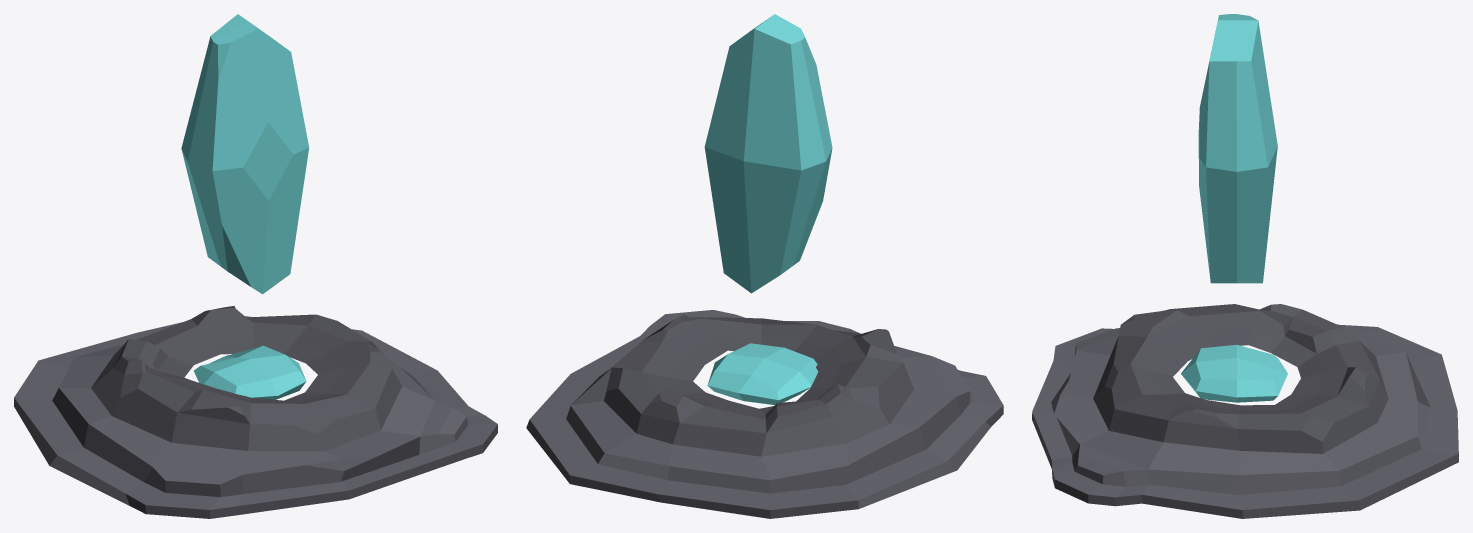
The model's file is piedraybase.fbx.
3 views of the same model, side by side, from view 1: azimuth 30°, elevation 25°; view 2: azimuth 150°, elevation 25°; view 3: azimuth 270°, elevation 25° (orthographic).
Visible parts, largest first — view 1: pisomagico.001, cristaldeluz.001, piedrapiso; view 2: pisomagico.001, cristaldeluz.001, piedrapiso; view 3: pisomagico.001, cristaldeluz.001, piedrapiso.
Part boxes in pixels (x1,y1,x2,y2): pisomagico.001: [14, 306, 497, 518]; cristaldeluz.001: [181, 14, 309, 294]; piedrapiso: [194, 345, 306, 399]; pisomagico.001: [526, 310, 1003, 518]; cristaldeluz.001: [704, 14, 832, 293]; piedrapiso: [707, 343, 818, 404]; pisomagico.001: [1032, 304, 1458, 518]; cristaldeluz.001: [1198, 14, 1277, 283]; piedrapiso: [1181, 344, 1287, 402].
Bounding box in the file's own units: 881 × 883 × 843.
